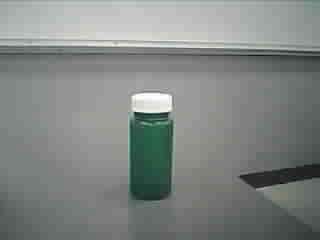Bottle C: (122, 85, 187, 207)
